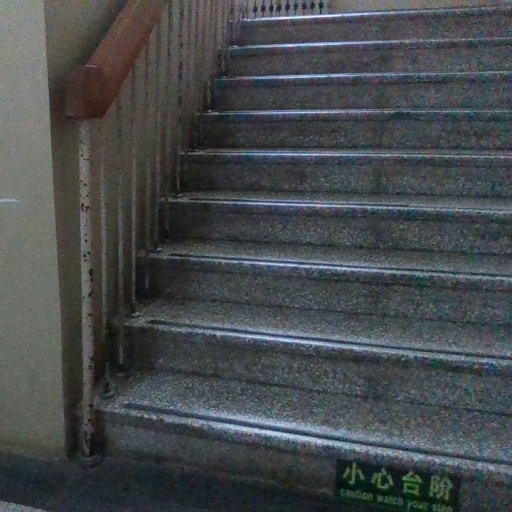Stairs: (99, 8, 512, 512)
